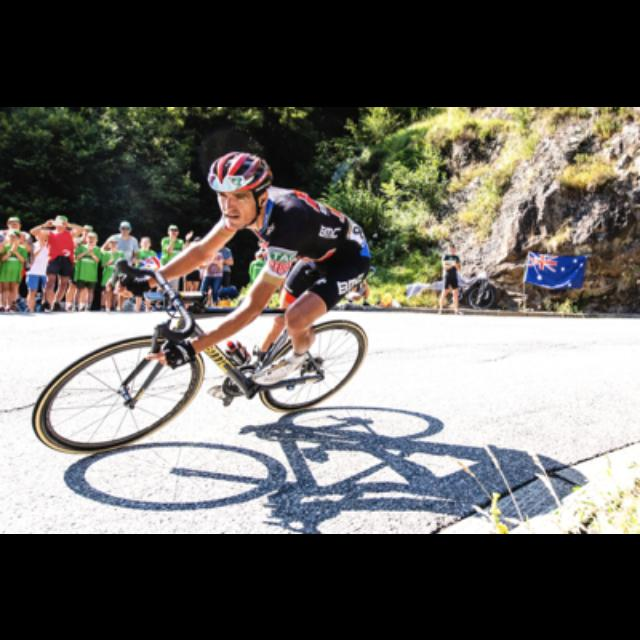With Helmet: (206, 144, 270, 232)
